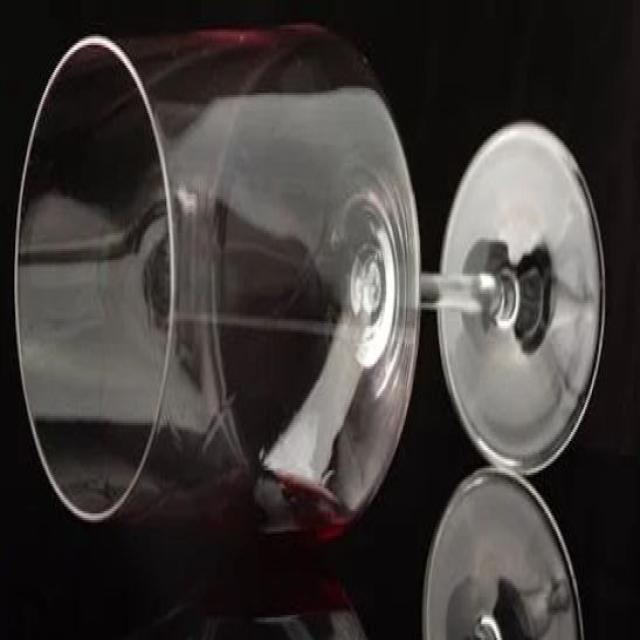electronic: (12, 25, 607, 548)
